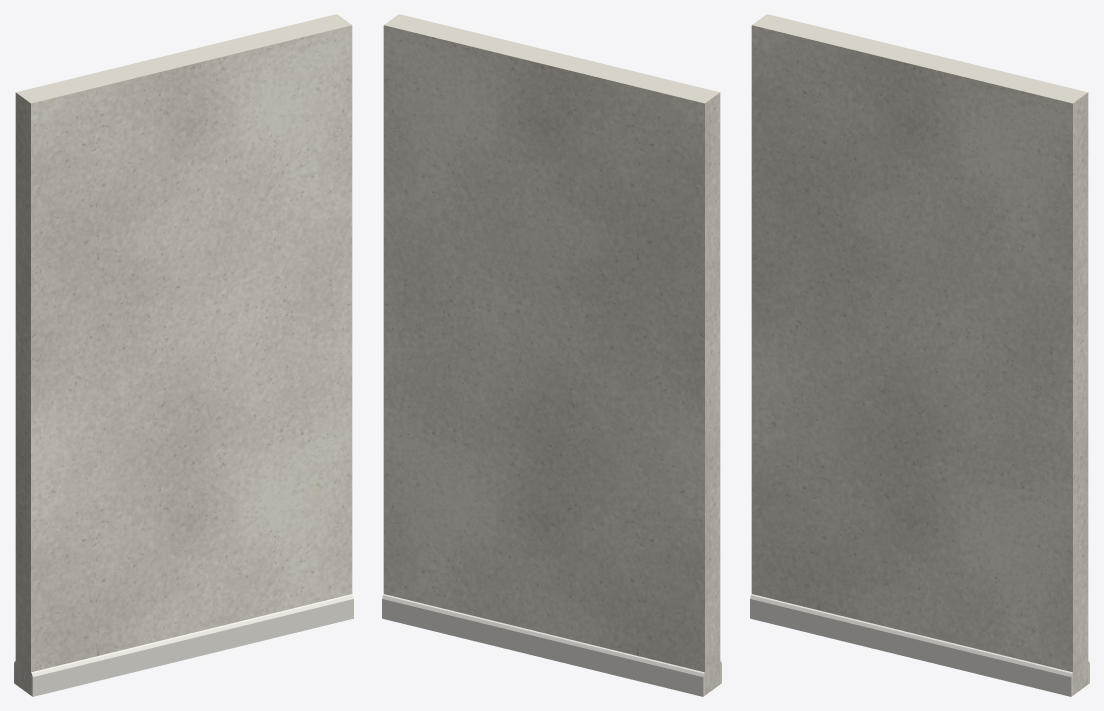
The model's file is iw_end_plain.glb.
The picture shows the model from 3 angles, left to right: view 1: azimuth 30°, elevation 25°; view 2: azimuth 150°, elevation 25°; view 3: azimuth 330°, elevation 25°; orthographic projection.
Visible parts, largest first — view 1: iw_end_plain_plaster, iw_end_plain_trim; view 2: iw_end_plain_plaster, iw_end_plain_trim; view 3: iw_end_plain_plaster, iw_end_plain_trim.
Boxes of the visible parts, x1,y1,x2,y2 form: iw_end_plain_plaster: [15, 14, 352, 695]; iw_end_plain_trim: [14, 594, 353, 696]; iw_end_plain_plaster: [383, 14, 720, 695]; iw_end_plain_trim: [382, 594, 721, 696]; iw_end_plain_plaster: [751, 14, 1088, 695]; iw_end_plain_trim: [750, 594, 1089, 696].
Size of the model in its own units: 1.7 by 2.99 by 0.172.
2 materials, 1 textured.
